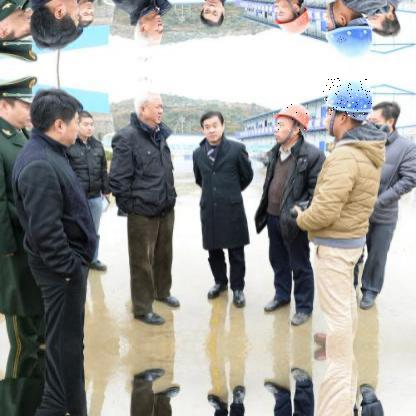safetyhelmet: (323, 76, 373, 118), (273, 102, 312, 132)
